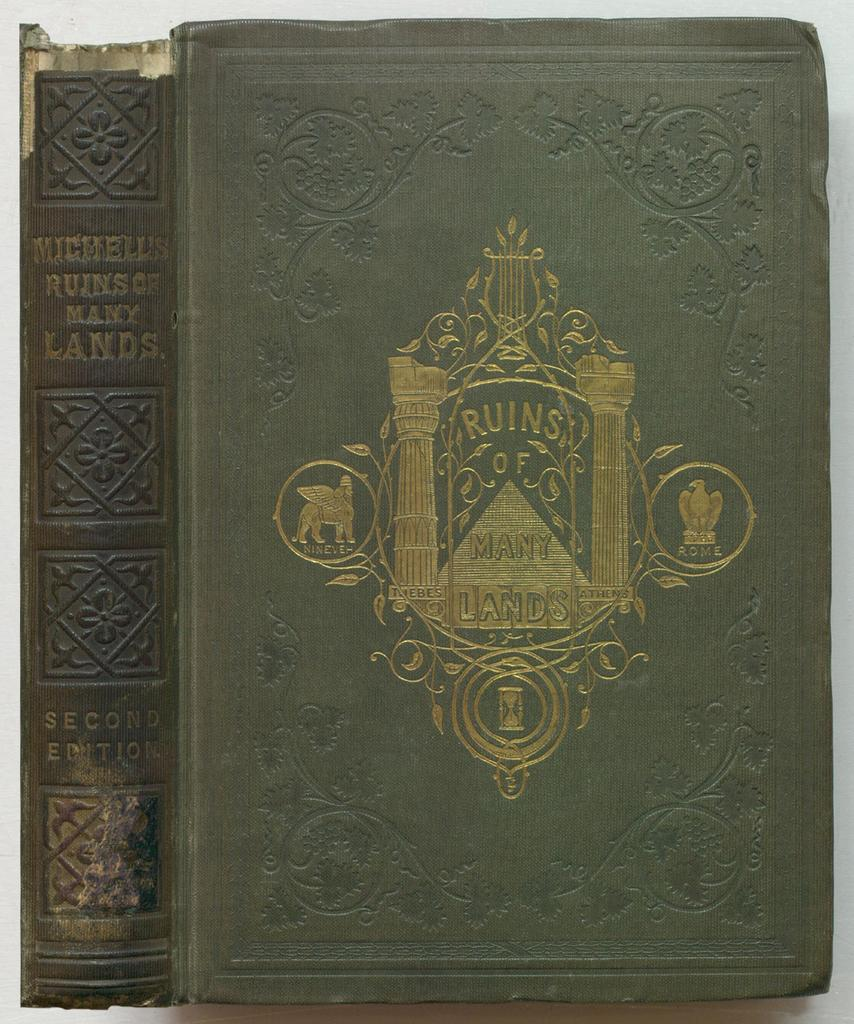book: (9, 14, 834, 1008)
